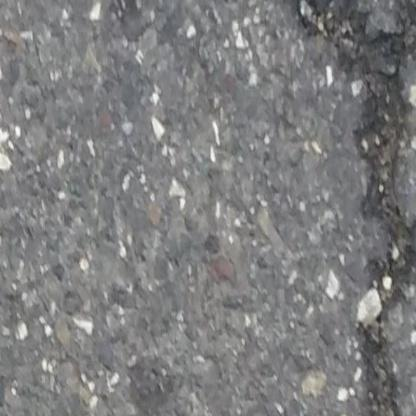Cracks: (271, 0, 416, 416)
